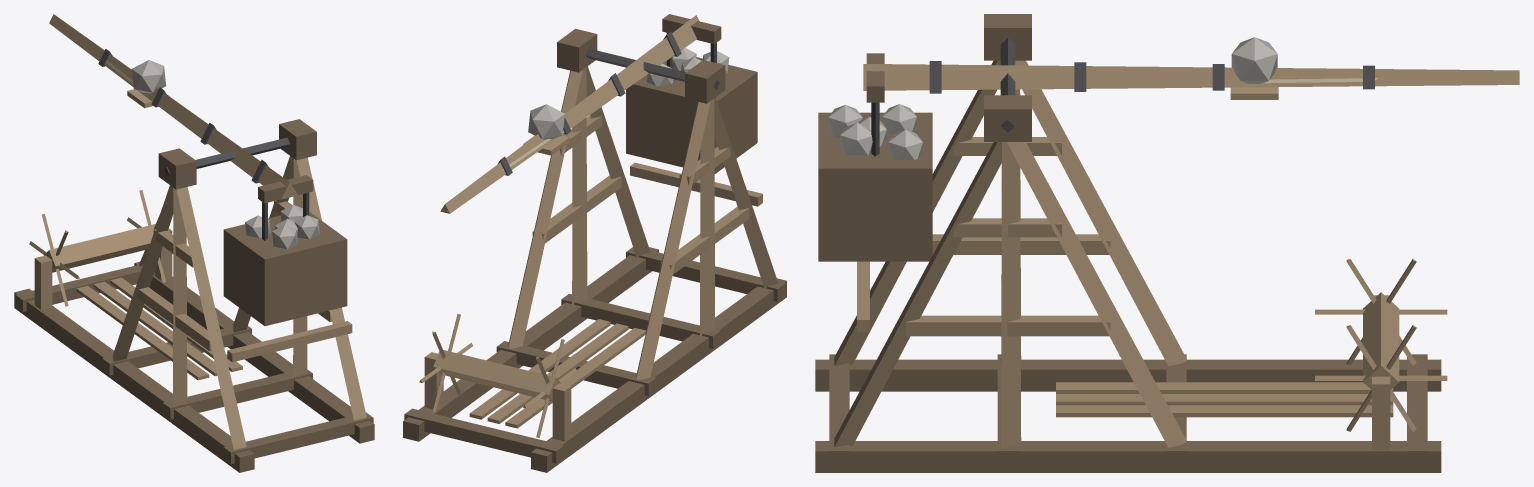
The model's file is trebuchet_lod.glb.
The picture shows the model from 3 angles, left to right: view 1: azimuth 30°, elevation 25°; view 2: azimuth 150°, elevation 25°; view 3: azimuth 270°, elevation 25°; orthographic projection. The views are drawn at different scales.
Visible parts, largest first — view 1: Frame, CounterweightBox, ArmBeam, Winch, Stone, SlingRope; view 2: Frame, CounterweightBox, ArmBeam, Winch, Stone, SlingRope; view 3: Frame, CounterweightBox, ArmBeam, Winch, Stone, SlingRope.
Boxes of the visible parts, x1=… form: Frame: x1=14, y1=119, x2=374, y2=472; CounterweightBox: x1=223, y1=192, x2=347, y2=326; ArmBeam: x1=49, y1=14, x2=313, y2=203; Winch: x1=29, y1=190, x2=173, y2=306; Stone: x1=131, y1=60, x2=166, y2=93; SlingRope: x1=106, y1=60, x2=169, y2=108; Frame: x1=403, y1=28, x2=786, y2=472; CounterweightBox: x1=626, y1=33, x2=757, y2=173; ArmBeam: x1=440, y1=14, x2=721, y2=213; Winch: x1=419, y1=314, x2=576, y2=437; Stone: x1=528, y1=104, x2=564, y2=139; SlingRope: x1=502, y1=135, x2=569, y2=169; Frame: x1=815, y1=14, x2=1441, y2=472; CounterweightBox: x1=818, y1=102, x2=932, y2=261; ArmBeam: x1=863, y1=38, x2=1519, y2=132; Winch: x1=1315, y1=259, x2=1447, y2=431; Stone: x1=1231, y1=37, x2=1277, y2=83; SlingRope: x1=1230, y1=78, x2=1378, y2=99.
Bounding box in the file's own units: 3.8 × 7.15 × 11.7.
